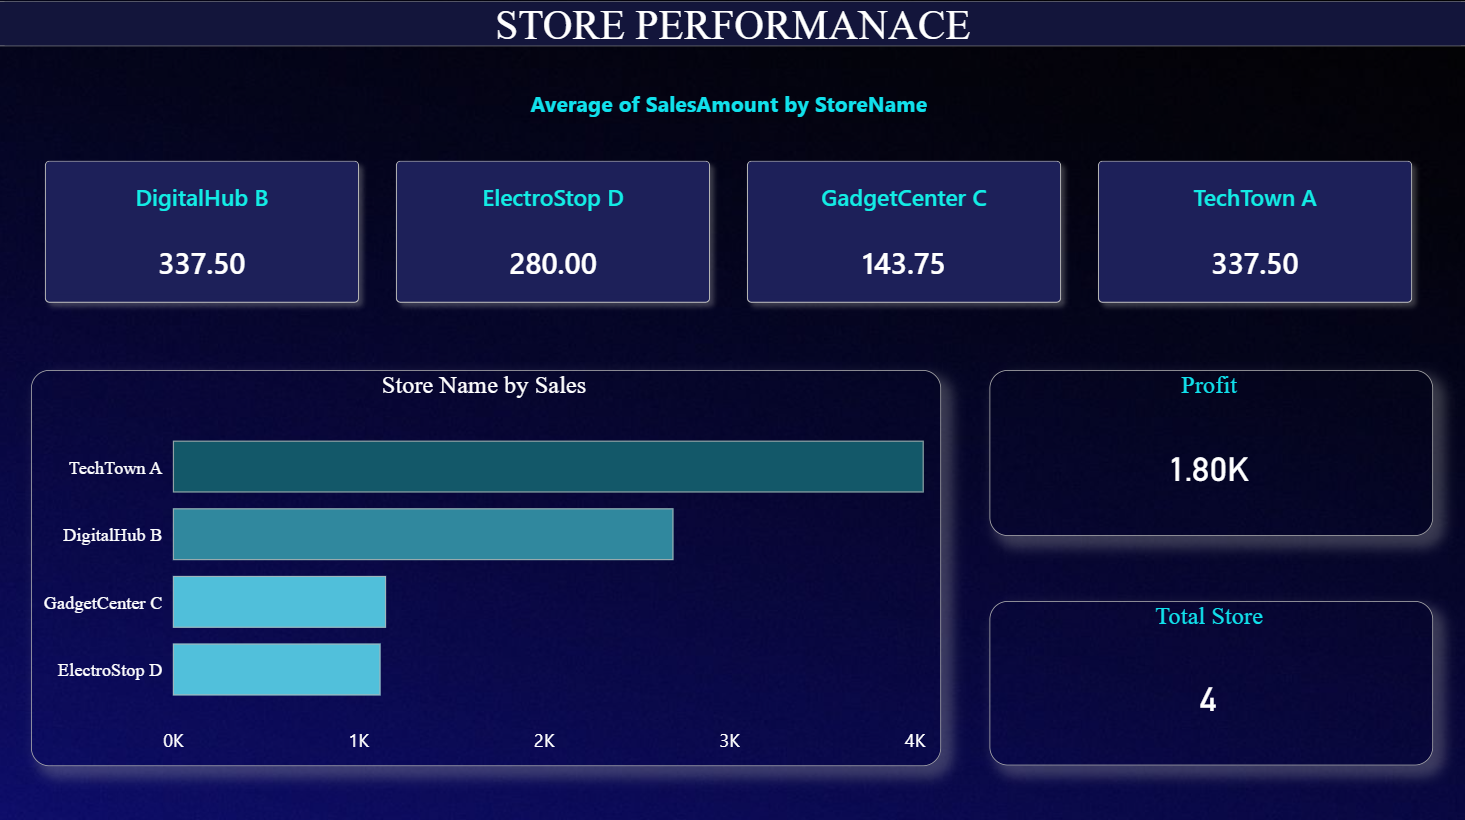

This screenshot's page, from the dashboard's own definition file:
{"tool":"powerbi","page":{"name":"Page 3","canvas":[1280,720],"ordinal":2},"visuals":[{"type":"textbox","title":"STORE PERFORMANACE","box":[0,2.9,1280,39.4],"z":0},{"type":"card","title":"Profit","fields":{"Values":["Inventory.Measure 2"]},"box":[863.7,323.7,386.7,144.7],"z":1000},{"type":"card","title":"Total Store","fields":{"Values":["CountNonNull(Stores.StoreID)"]},"box":[863.7,525.7,386.7,143.2],"z":2000},{"type":"barChart","title":"Store Name by Sales","fields":{"Category":["Stores.StoreName"],"Y":["Sum(Sales.SalesAmount)"]},"box":[28.6,323.7,793.5,345.2],"z":3000},{"type":"advancedSlicerVisual","fields":{"Values":["Stores.StoreName"],"Label":["Avg(Sales.SalesAmount)"]},"box":[28.6,80.2,1221.8,223.5],"z":4000}]}

Visuals, with their boxes in screenshot pixels (x1, y1, x2, y2), scaled from the page's 1280x720 canvas onto the 1465x820 screenshot:
"STORE PERFORMANACE" textbox: (0, 3, 1464, 48)
"Profit" card: (989, 369, 1431, 533)
"Total Store" card: (989, 599, 1431, 762)
"Store Name by Sales" barChart: (33, 369, 941, 762)
advancedSlicerVisual - Stores.StoreName x Avg(Sales.SalesAmount): (33, 91, 1431, 346)
